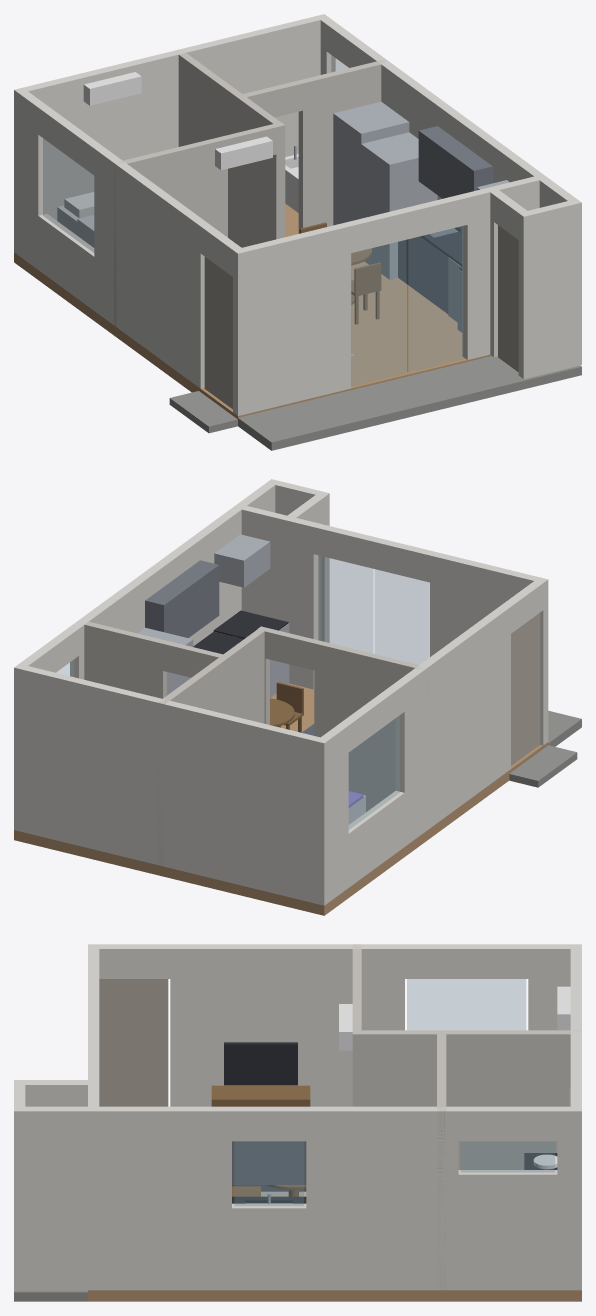
The model's file is adu-320.glb.
The picture shows the model from 3 angles, top to bottom: view 1: azimuth 30°, elevation 25°; view 2: azimuth 150°, elevation 25°; view 3: azimuth 270°, elevation 25°; orthographic projection. The views are drawn at different scales.
Parts seen in each view (by area): view 1: wall_south_0, wall_north_1, wall_west_1, floor_interior, porch_slab, wall_closet_south_1, wall_bed_bath_1, wall_south_slider_panel1, wall_south_slider_fixed1, wall_bath_south_2, wall_south_2, wall_bed_living_0 (+33 smaller); view 2: wall_north_1, wall_west_1, wall_bed_living_0, wall_south_2, wall_south_0, floor_interior, wall_bed_bath_1, wall_bath_south_2, wall_south_slider_panel1, wall_south_slider_fixed1, upper_cabinets, wall_west_0 (+25 smaller); view 3: wall_east_1, wall_west_1, wall_east_3, wall_bed_bath_1, wall_closet_east_1, wall_east_sill1, wall_west_leaf2, wall_east_sill2, wall_west_glazing1, floor_interior, wall_east_glazing2, wall_west_head1 (+21 smaller).
Boxes of the visible parts, bbox=[...] form: wall_south_0: bbox=[233, 222, 351, 415]; wall_north_1: bbox=[14, 14, 328, 255]; wall_west_1: bbox=[94, 146, 208, 388]; floor_interior: bbox=[14, 204, 491, 419]; porch_slab: bbox=[238, 356, 581, 450]; wall_closet_south_1: bbox=[518, 199, 581, 378]; wall_bed_bath_1: bbox=[175, 50, 284, 247]; wall_south_slider_panel1: bbox=[407, 226, 462, 372]; wall_south_slider_fixed1: bbox=[351, 240, 406, 386]; wall_bath_south_2: bbox=[298, 59, 387, 233]; wall_south_2: bbox=[462, 174, 547, 359]; wall_bed_living_0: bbox=[114, 136, 227, 326]; wall_north_1: bbox=[14, 664, 329, 905]; wall_west_1: bbox=[395, 604, 510, 846]; wall_bed_living_0: bbox=[314, 640, 428, 812]; wall_south_2: bbox=[233, 504, 318, 689]; wall_south_0: bbox=[430, 552, 548, 745]; floor_interior: bbox=[14, 683, 548, 915]; wall_bed_bath_1: bbox=[157, 626, 268, 866]; wall_bath_south_2: bbox=[84, 621, 166, 698]; wall_south_slider_panel1: bbox=[318, 555, 373, 653]; wall_south_slider_fixed1: bbox=[375, 569, 429, 664]; upper_cabinets: bbox=[145, 560, 219, 637]; wall_west_0: bbox=[315, 723, 348, 905]; wall_east_1: bbox=[306, 1106, 458, 1290]; wall_west_1: bbox=[170, 944, 404, 1106]; wall_east_3: bbox=[88, 1106, 231, 1290]; wall_bed_bath_1: bbox=[352, 1030, 581, 1169]; wall_closet_east_1: bbox=[14, 1106, 87, 1290]; wall_east_sill1: bbox=[458, 1170, 557, 1290]; wall_west_leaf2: bbox=[99, 979, 168, 1106]; wall_east_sill2: bbox=[232, 1203, 306, 1290]; wall_west_glazing1: bbox=[407, 979, 525, 1029]; floor_interior: bbox=[88, 1290, 581, 1301]; wall_east_glazing2: bbox=[234, 1141, 303, 1205]; wall_west_head1: bbox=[405, 944, 528, 978].
Size of the model in its own units: 5.33 by 2.59 by 7.01.
